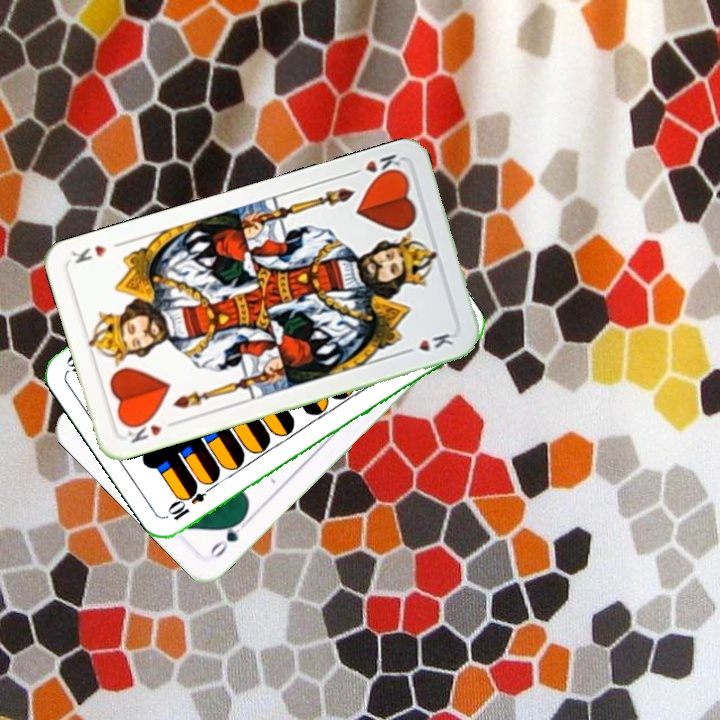E10: (164, 479, 217, 524)
GO: (206, 512, 252, 561)
HK: (345, 150, 404, 183), (121, 414, 165, 446)
